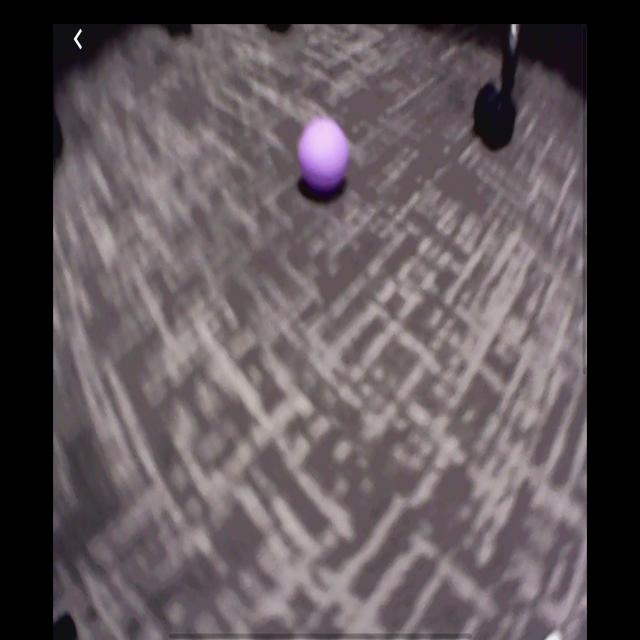ball: (299, 117, 350, 199)
